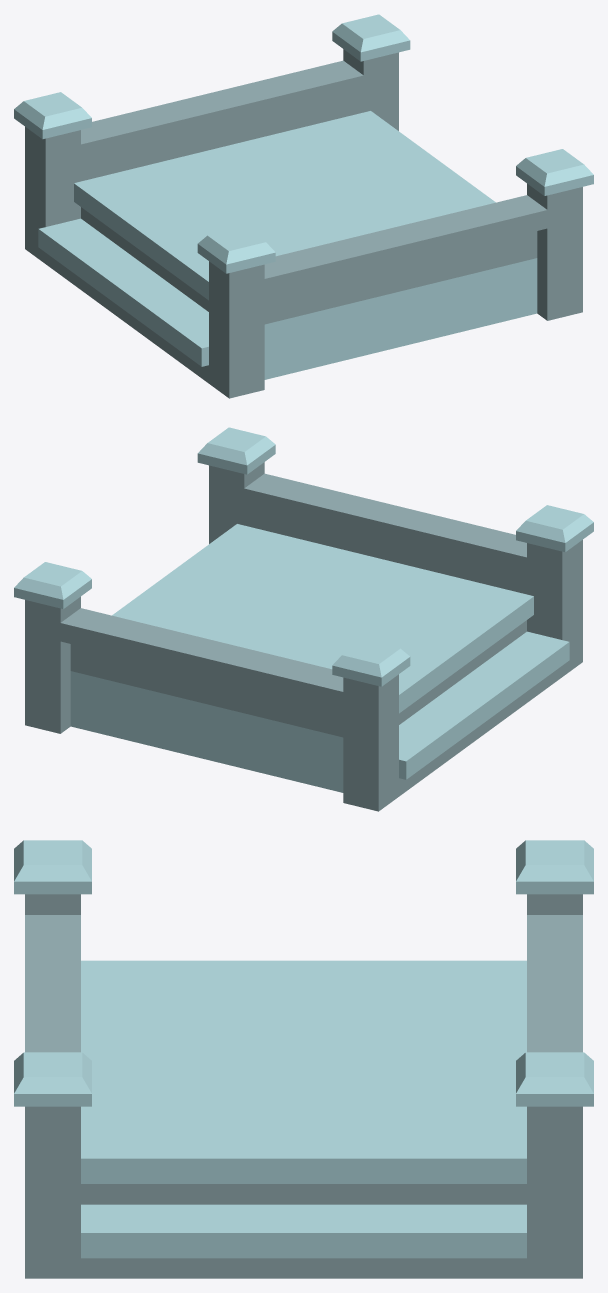
File: bridge_stone.obj
The picture shows the model from 3 angles, top to bottom: view 1: azimuth 30°, elevation 25°; view 2: azimuth 150°, elevation 25°; view 3: azimuth 270°, elevation 25°; orthographic projection. The views are drawn at different scales.
Bounding box in the file's own units: 1.04 × 0.4 × 1.04.
